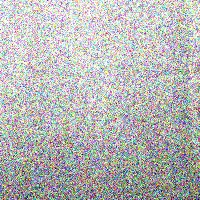pitted_surface: (2, 0, 200, 200)
